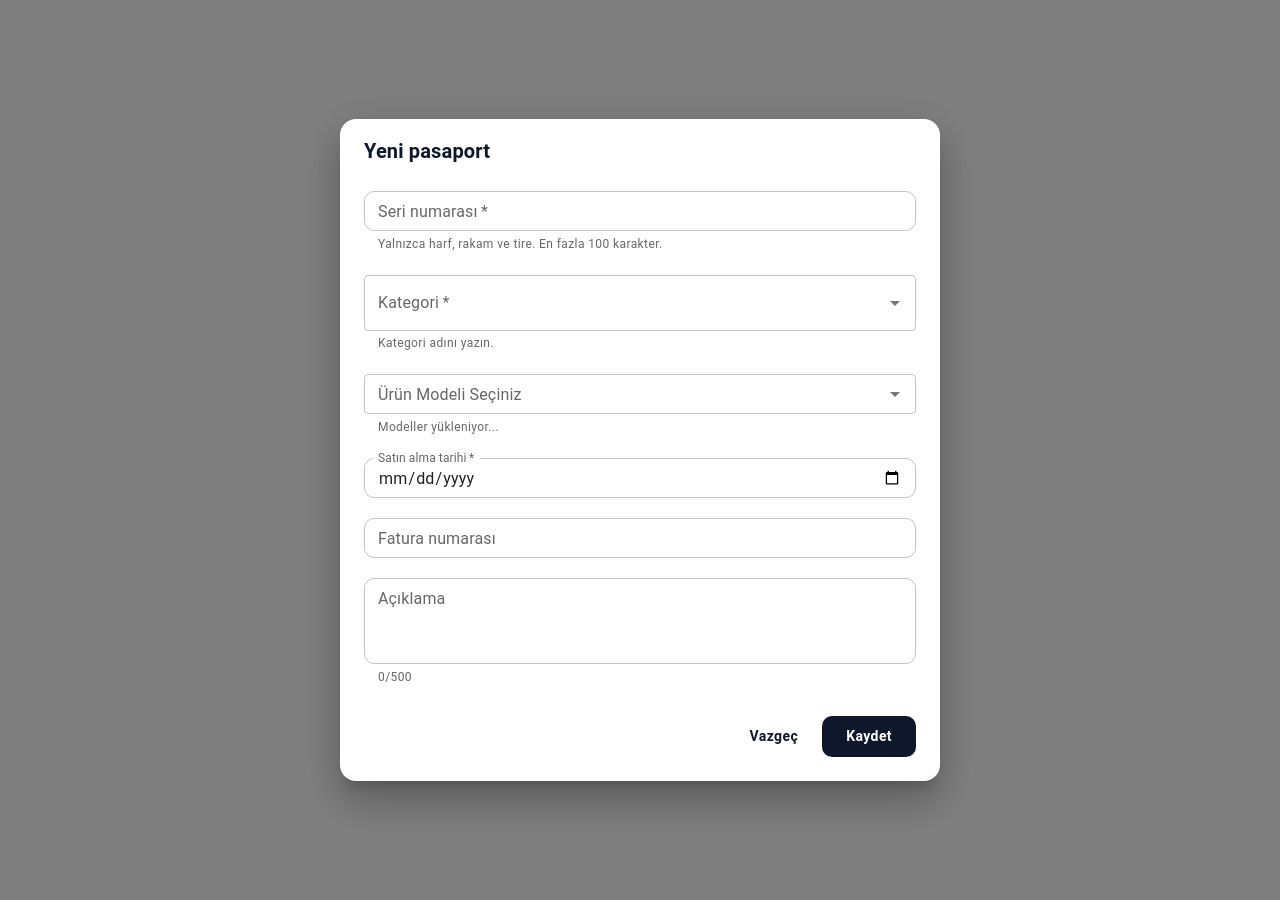
Test case: Pasaport formu › zorunlu alanlar boşken istek atmaz
Click the button "Kaydet" at (869, 736), box 822,716 -> 916,757
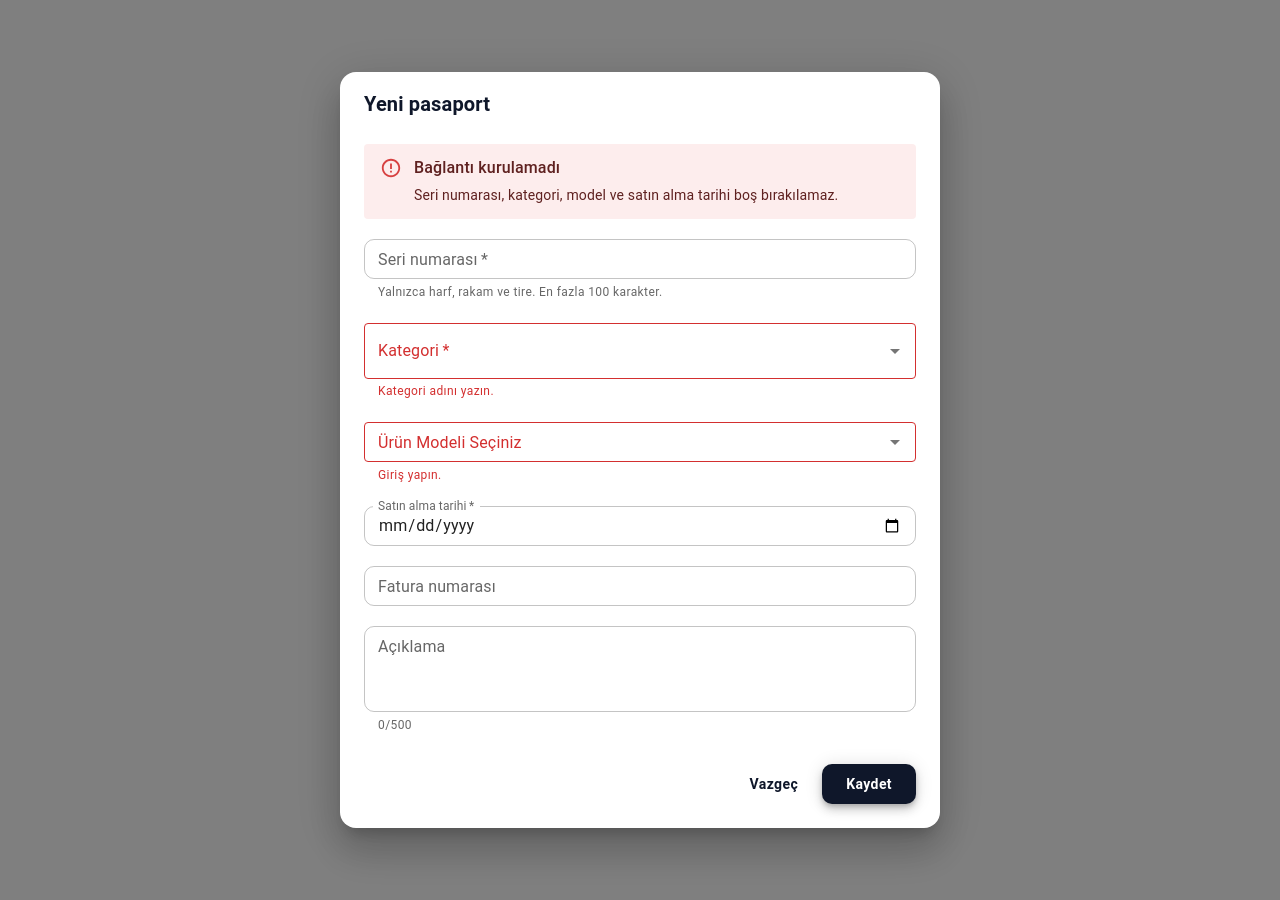
Expected: the text "boş bırakılamaz" is shown, 414,187 -> 838,203
